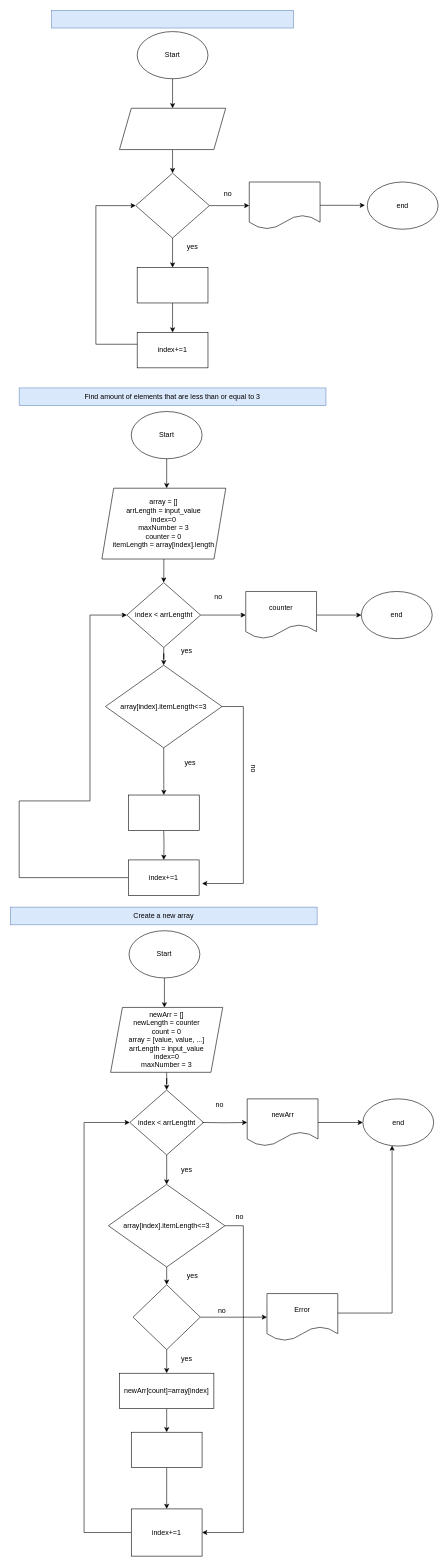
The diagram is 448 pixels wide and 1566 high, and some of its shapes have lost their labels. Here are the shapes that lost their labels. From the top down, the box of each, then its label:
(51, 10, 294, 28): Data for array
(119, 108, 226, 150): size = input_size array = [] index=0 value = input_value
(135, 173, 209, 238): index <= size
(249, 181, 320, 229): array
(137, 267, 208, 303): array[index] = value
(128, 794, 199, 830): counter+=1
(132, 1284, 200, 1350): count<=newLength
(131, 1432, 202, 1468): count+=1
